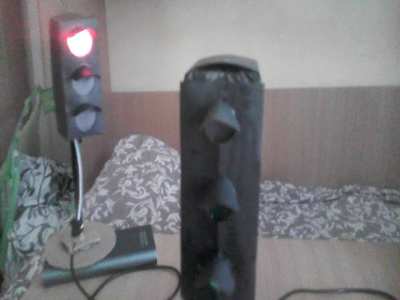trafficlight_red: (58, 19, 103, 134)
